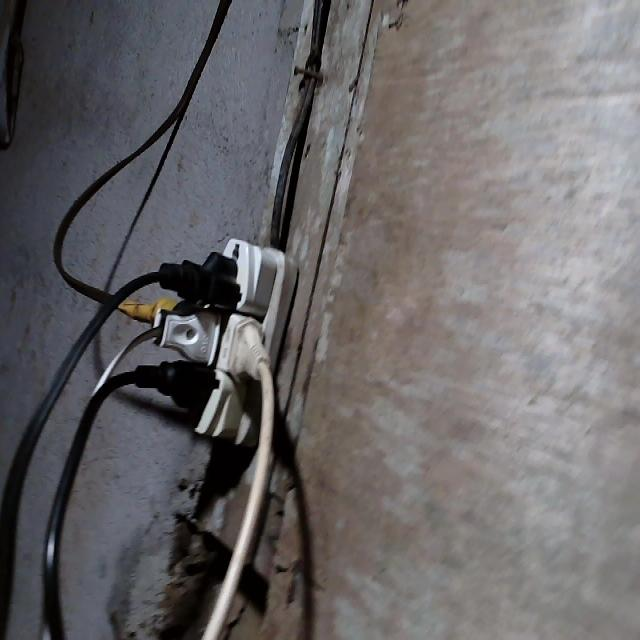-: (120, 236, 300, 445)
